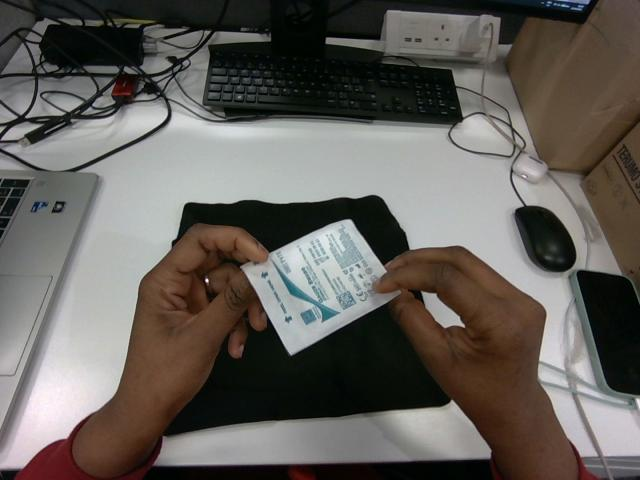gauze: (241, 219, 398, 354)
